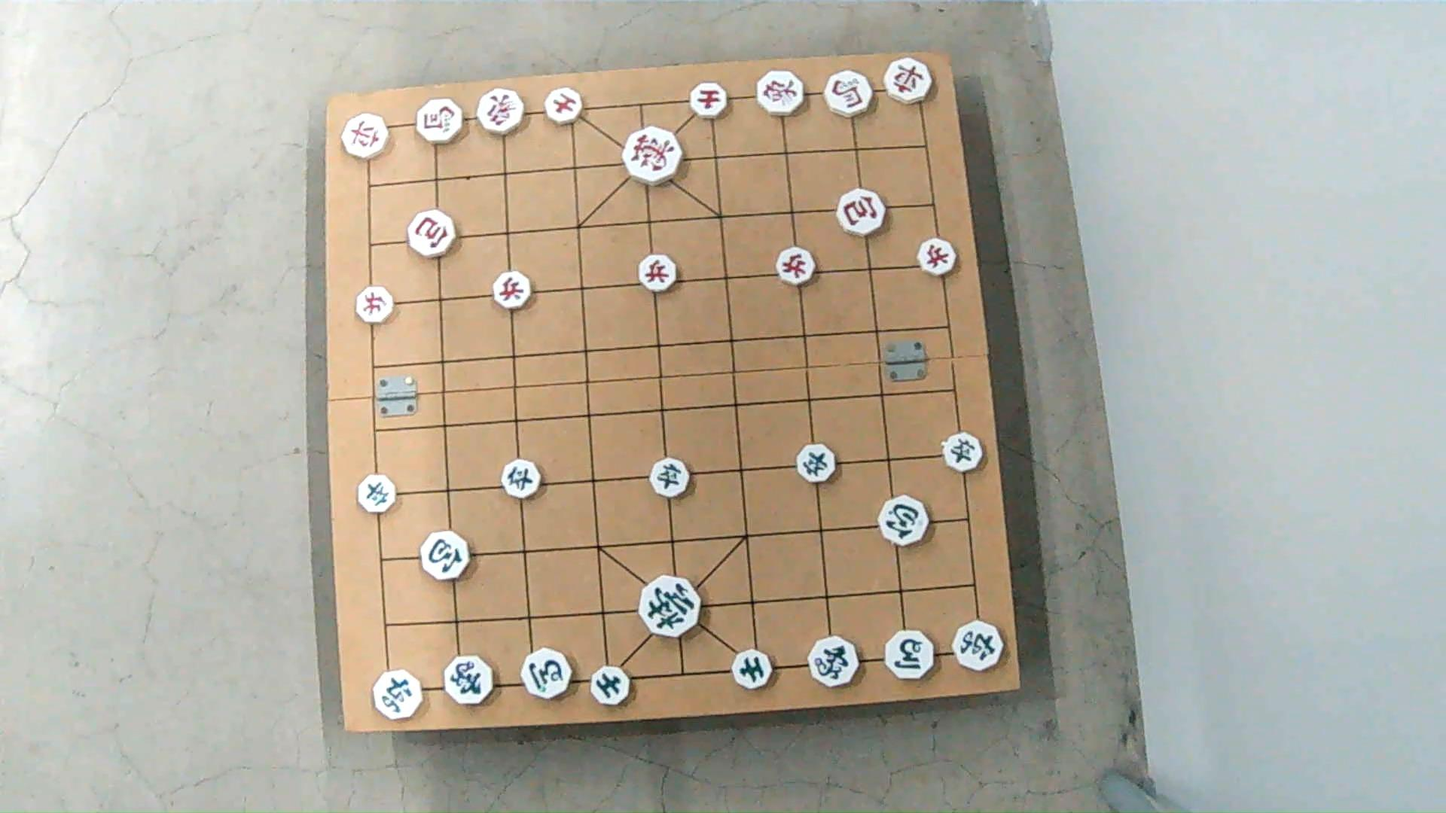cha_green: (951, 620, 1006, 671), (374, 671, 427, 718)
cha_red: (340, 111, 390, 159), (882, 60, 935, 103)
jol_green: (793, 446, 838, 482), (647, 460, 693, 495), (941, 436, 987, 471), (355, 474, 398, 510), (496, 461, 540, 496)
jol_red: (487, 273, 530, 307), (776, 251, 818, 285), (919, 242, 960, 276), (638, 257, 678, 291), (358, 290, 398, 323)
ma_green: (883, 633, 938, 679), (522, 652, 575, 699)
ma_red: (822, 72, 875, 116), (413, 100, 465, 141)
po_green: (419, 529, 473, 582), (879, 495, 932, 547)
po_red: (838, 193, 889, 235), (405, 213, 456, 255)
sa_green: (731, 651, 774, 688), (590, 668, 632, 705)
sa_red: (545, 88, 586, 127), (688, 83, 731, 118)
sang_green: (440, 655, 498, 705), (807, 641, 860, 687)
sang_red: (758, 73, 810, 116), (477, 93, 526, 135)
wang_green: (639, 579, 703, 635)
wang_red: (622, 129, 682, 181)
